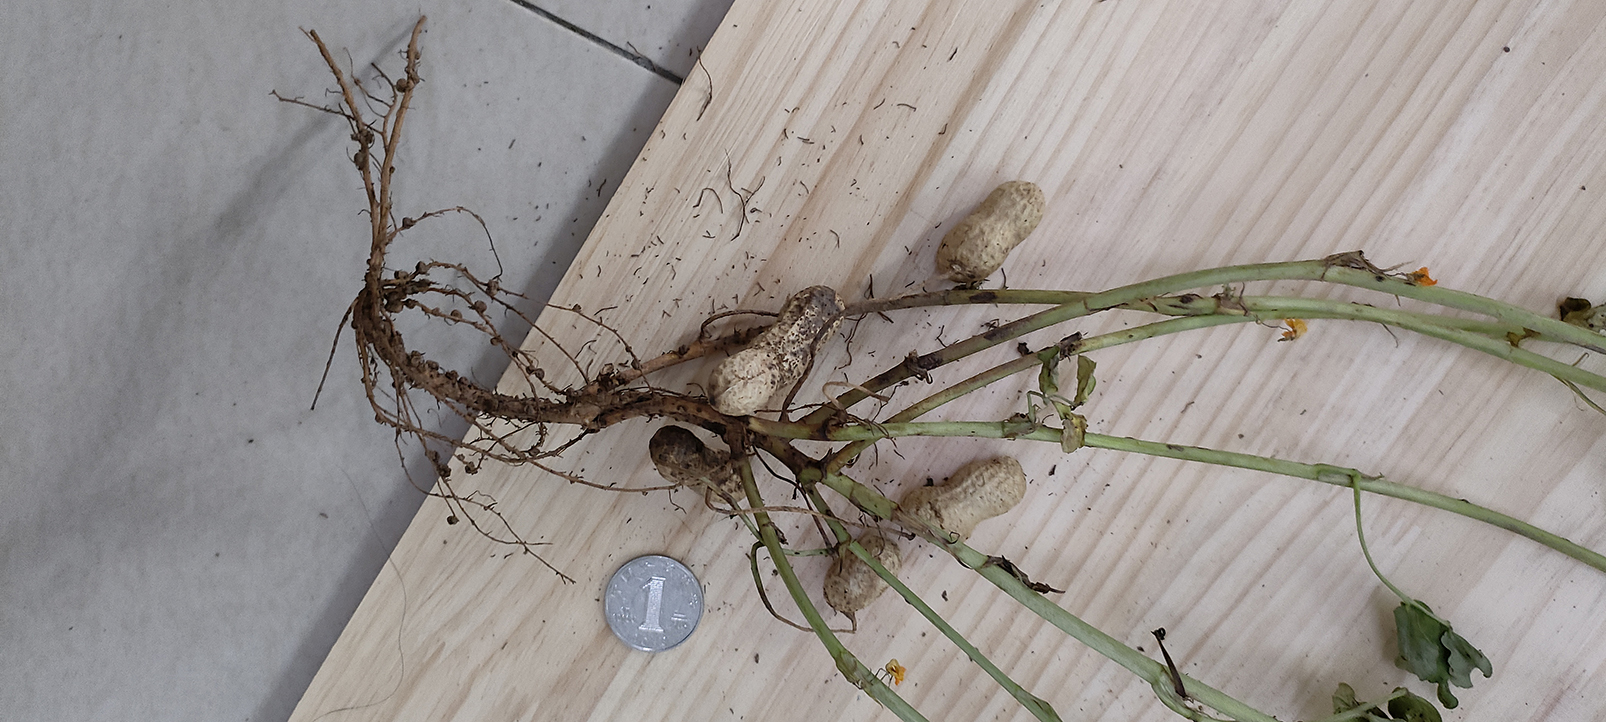h: (710, 285, 844, 416), (935, 181, 1046, 283), (903, 457, 1028, 542)
l: (649, 425, 751, 500), (825, 538, 900, 614)
